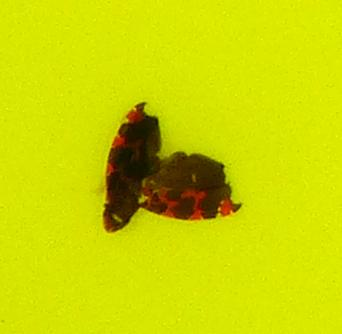Hemiptera: (100, 100, 242, 234)
